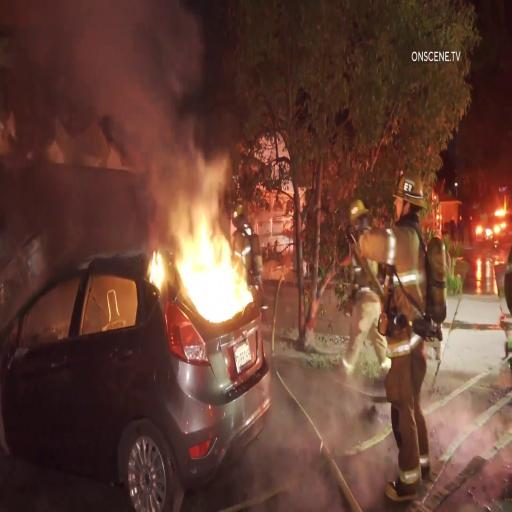fire: (178, 170, 275, 335)
smoke: (66, 0, 238, 176)
